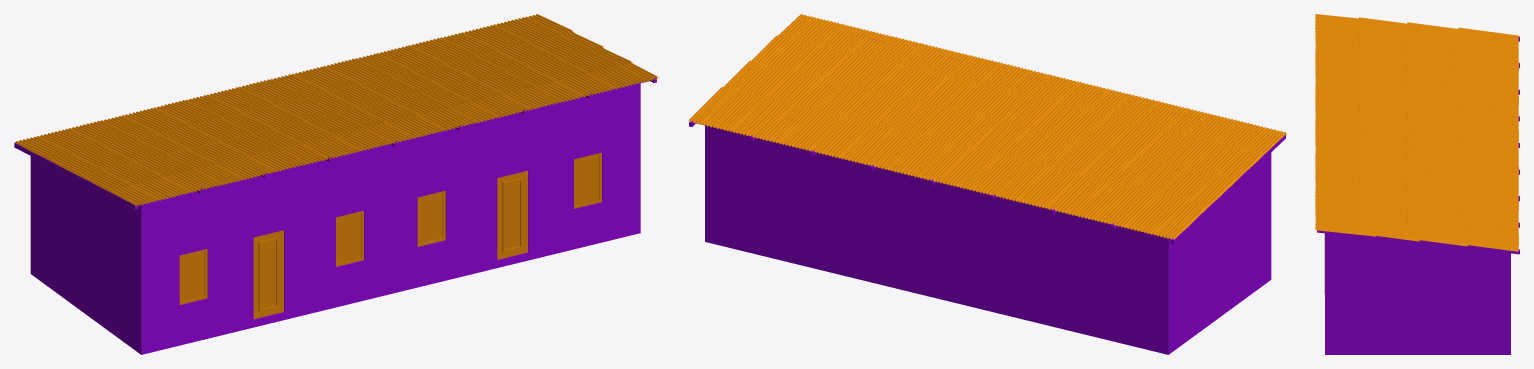
The model's file is Building_M.fbx.
The picture shows the model from 3 angles, left to right: view 1: azimuth 30°, elevation 25°; view 2: azimuth 150°, elevation 25°; view 3: azimuth 270°, elevation 25°; orthographic projection. The views are drawn at different scales.
Visible parts, largest first — view 1: Cube.002, Plane.166, Cube.013, Plane.165, Plane.164, Plane.163, Cube.052, Cube.591, Cube, Cube.532, Plane.170, Cube.590 (+7 smaller); view 2: Cube.003, Plane.166, Plane.165, Plane.164, Plane.163, Cube.013, Cube.052, Plane.170, Cube.073, Cube.002; view 3: Cube.018, Plane.166, Plane.165, Plane.164, Plane.163, Cube.052, Cube.002, Cube.003, Cube.073.
Part boxes in pixels (<box>): Cube.002: <box>136,83,640,347</box>; Plane.166: <box>15,14,572,159</box>; Cube.013: <box>35,159,136,342</box>; Plane.165: <box>45,32,604,174</box>; Plane.164: <box>74,48,631,190</box>; Plane.163: <box>100,63,657,205</box>; Cube.052: <box>30,225,640,354</box>; Cube.591: <box>497,170,527,259</box>; Cube: <box>253,230,283,319</box>; Cube.532: <box>181,251,204,301</box>; Plane.170: <box>20,31,574,160</box>; Cube.590: <box>419,193,442,243</box>; Cube.003: <box>705,125,1172,347</box>; Plane.166: <box>688,87,1207,239</box>; Plane.165: <box>724,60,1235,212</box>; Plane.164: <box>752,35,1262,187</box>; Plane.163: <box>778,14,1286,164</box>; Cube.013: <box>1173,157,1266,344</box>; Cube.052: <box>705,235,1271,354</box>; Plane.170: <box>688,120,1207,239</box>; Cube.073: <box>689,121,1285,244</box>; Cube.002: <box>1266,153,1271,275</box>; Cube.018: <box>1333,234,1502,348</box>; Plane.166: <box>1458,27,1518,250</box>; Plane.165: <box>1407,22,1467,245</box>; Plane.164: <box>1359,17,1419,240</box>; Plane.163: <box>1315,14,1375,235</box>; Cube.052: <box>1325,348,1510,354</box>; Cube.002: <box>1325,233,1333,348</box>; Cube.003: <box>1502,252,1510,348</box>; Cube.073: <box>1317,36,1519,254</box>.
Size of the model in its own units: 1332 by 383 by 537.
